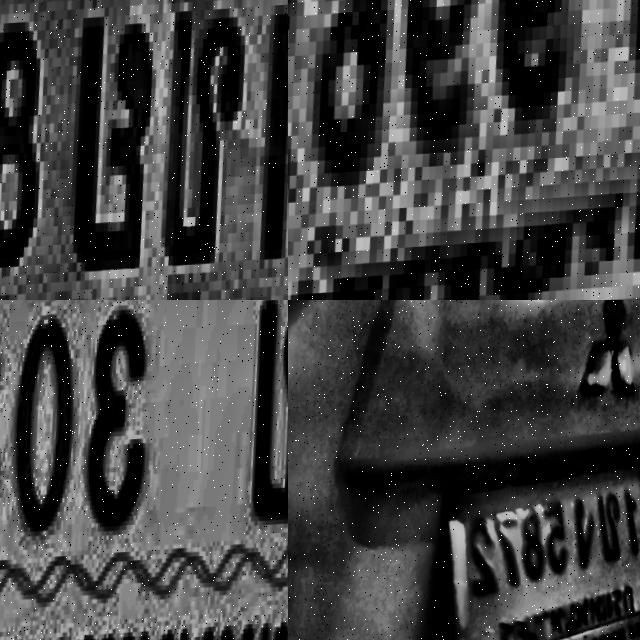license-plate: (288, 0, 640, 300), (0, 300, 288, 640), (0, 0, 288, 300), (468, 475, 640, 640)
